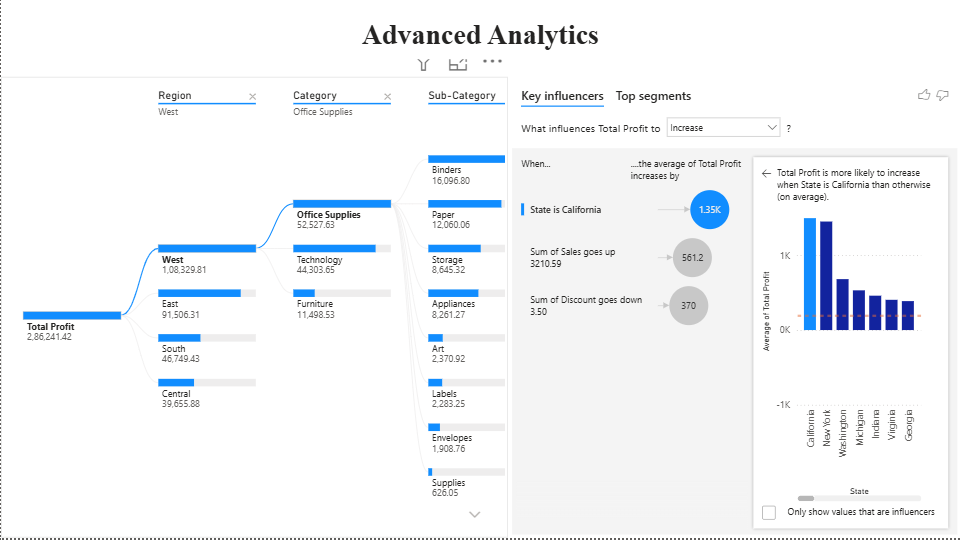

This screenshot's page, from the dashboard's own definition file:
{"tool":"powerbi","page":{"name":"Advanced Analytics","canvas":[1280,720],"ordinal":2},"visuals":[{"type":"decompositionTreeVisual","fields":{"Analyze":["SampleSuperstore_cleaned.Total Profit"],"ExplainBy":["SampleSuperstore_cleaned.Region","SampleSuperstore_cleaned.Category","SampleSuperstore_cleaned.Sub-Category","SampleSuperstore_cleaned.Segment","SampleSuperstore_cleaned.State"]},"box":[194.9,140,898.8,554.4],"z":0},{"type":"textbox","box":[410.3,22,458.3,60.4],"z":1}]}

Visuals, with their boxes in screenshot pixels (x1, y1, x2, y2), scaled from the page's 1280x720 canvas onto the 961x540 screenshot:
decompositionTreeVisual - SampleSuperstore_cleaned.Total Profit x SampleSuperstore_cleaned.Region: <bbox>146, 105, 821, 521</bbox>
textbox: <bbox>308, 16, 652, 62</bbox>
